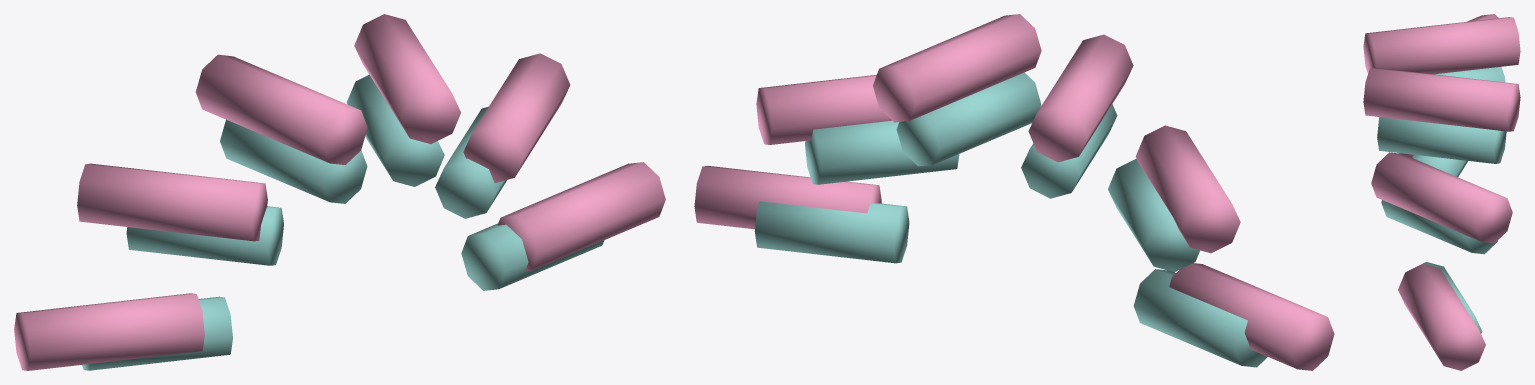
Rendered from Deco_RainbowArch.fbx.
3 views of the same model, side by side, from view 1: azimuth 30°, elevation 25°; view 2: azimuth 150°, elevation 25°; view 3: azimuth 270°, elevation 25° (orthographic). The views are drawn at different scales.
Visible parts, largest first — view 1: Deco_RainbowArch; view 2: Deco_RainbowArch; view 3: Deco_RainbowArch.
Boxes of the visible parts, box(x1,y1,x2,y2) form: Deco_RainbowArch: box(14, 14, 665, 370); Deco_RainbowArch: box(694, 14, 1334, 370); Deco_RainbowArch: box(1363, 14, 1520, 370).
Size of the model in its own units: 1.06 by 0.3969 by 0.2753.
